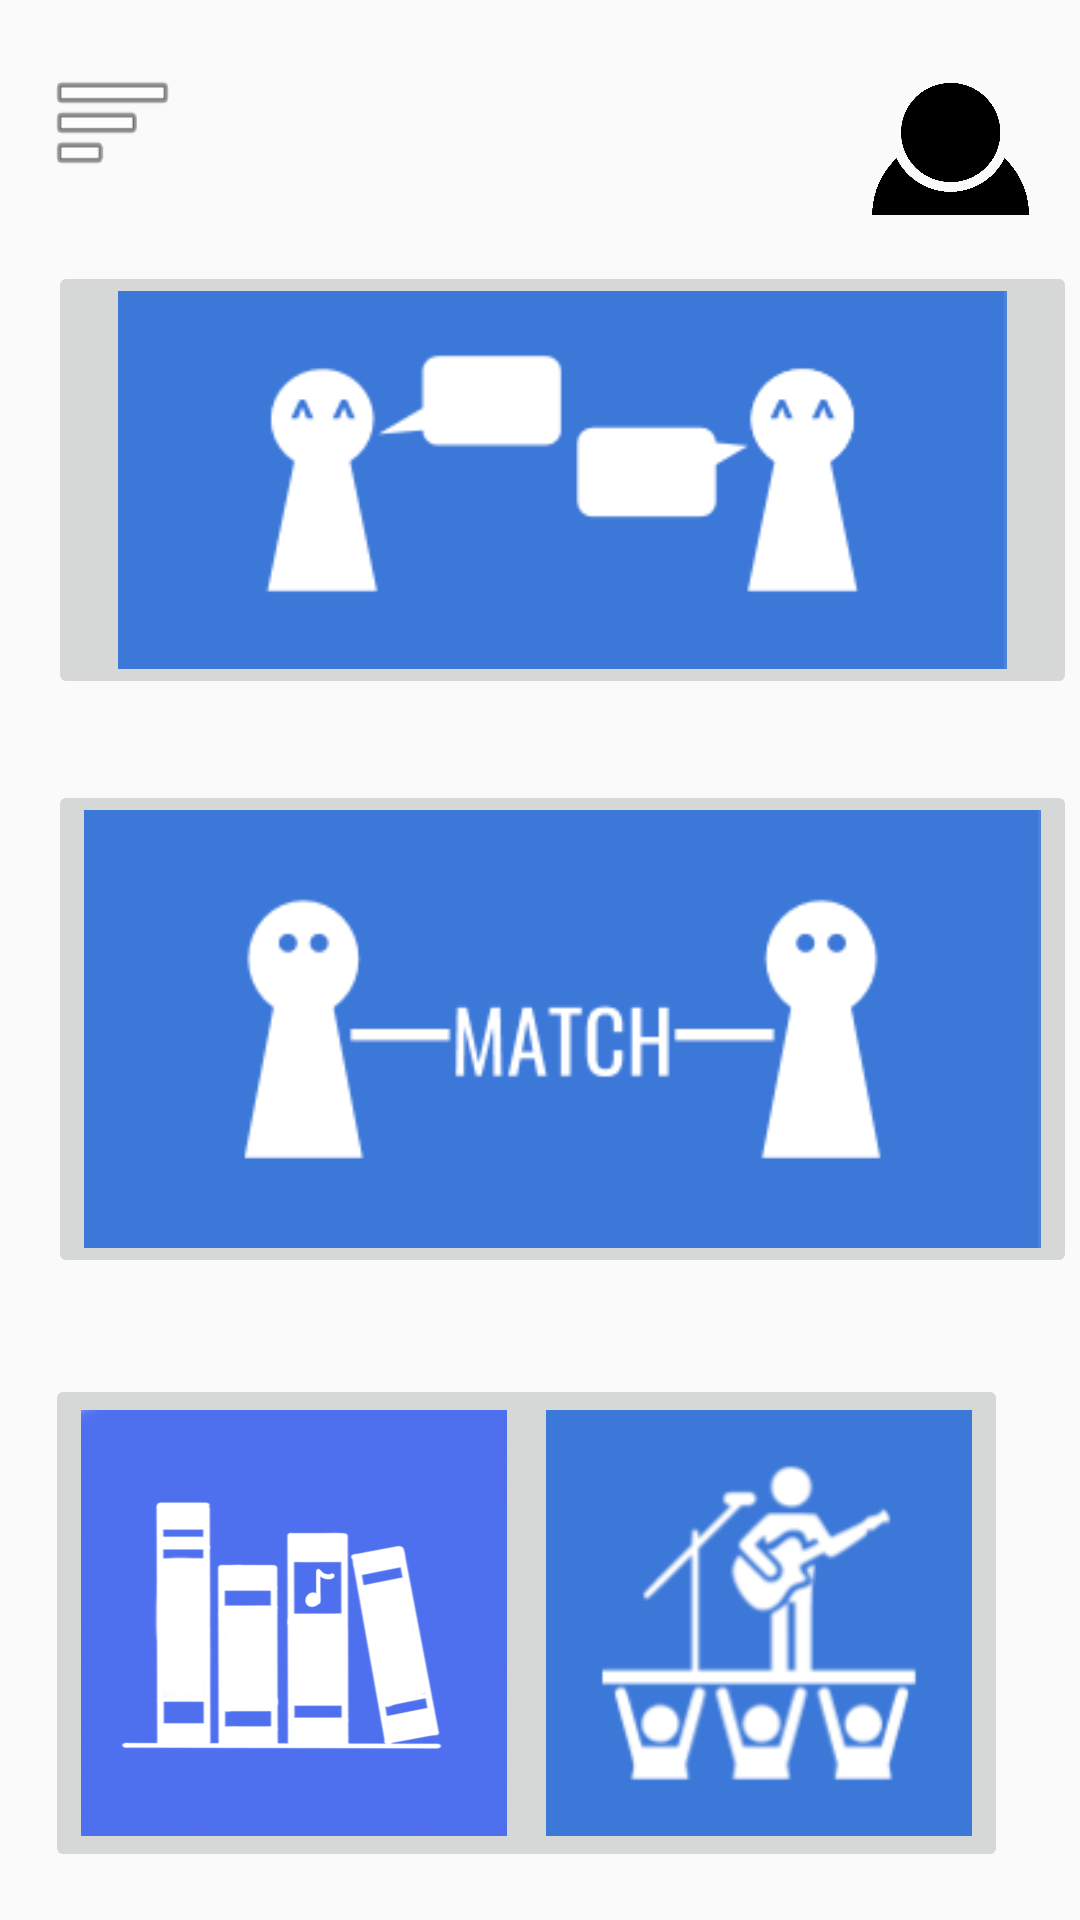

Where to tap for icons on this 1080px×1920px app screen, as [x,y]:
profile: [950,149]
sort by size: [112,122]
